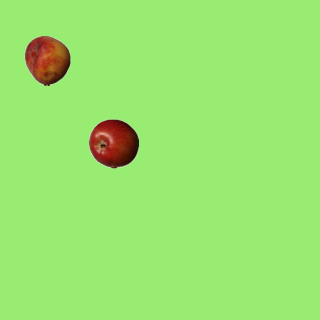Apple Braeburn: (88, 118, 138, 168)
Peach: (22, 35, 72, 85)
